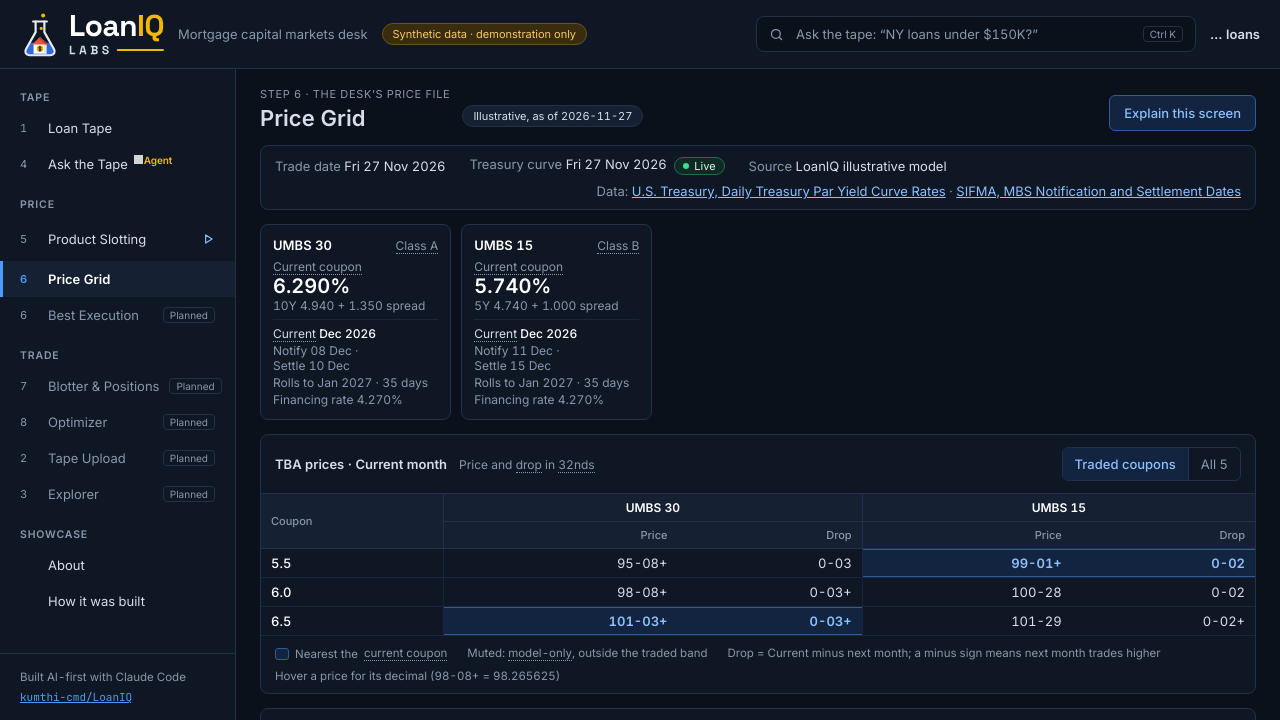
Test: PriceGridScreen › switches both tables between traded coupons and all coupons
Expected: the element "2.0" is not shown
Click the button "All 5". click: (1214, 464)
box: [1188, 448, 1240, 480]
(page scrolled)
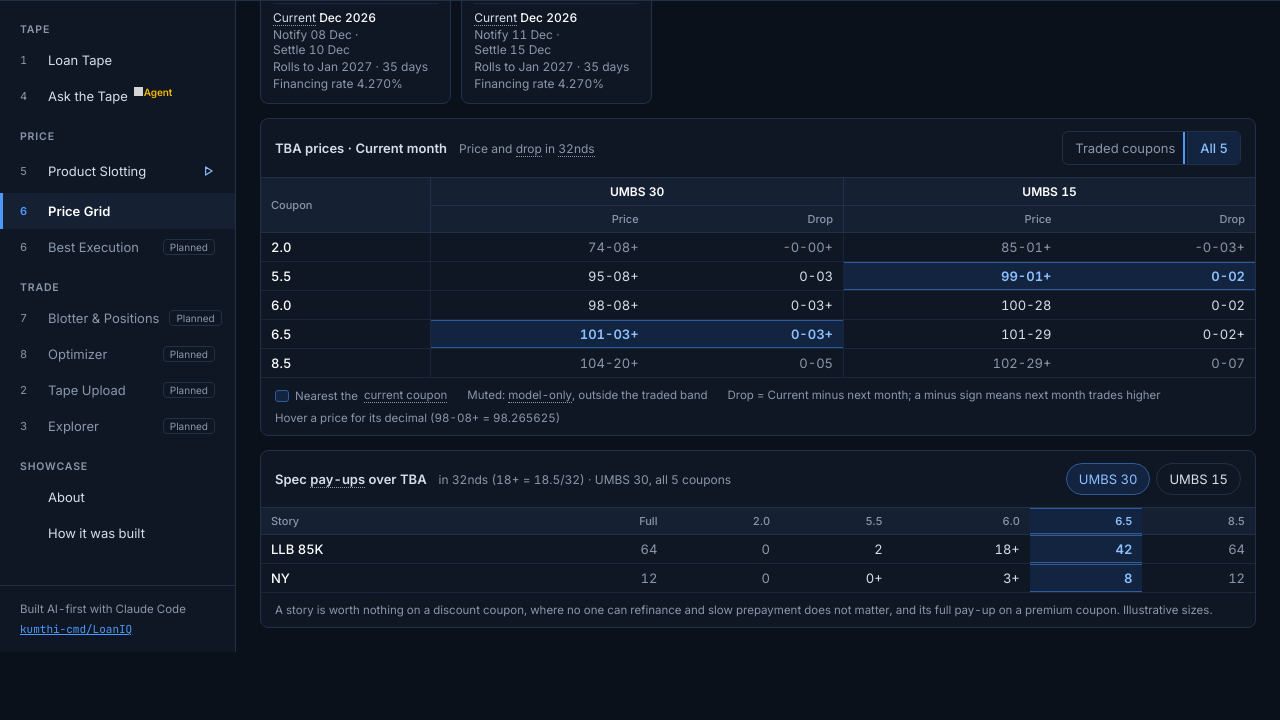
Result: the column heading "2.0" next to "74-08+" is shown at [261, 232, 431, 262]
Result: the column heading "2.0" below "over TBA" is shown at [667, 508, 780, 534]
